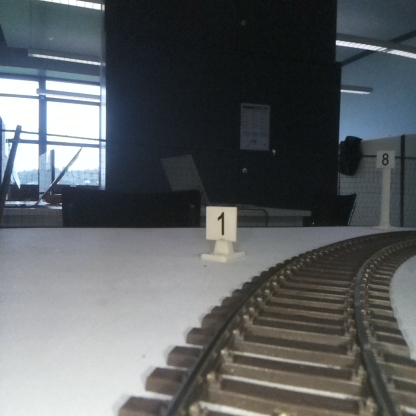white-info-8: (376, 150, 394, 227)
white-stop-1: (206, 206, 236, 260)
